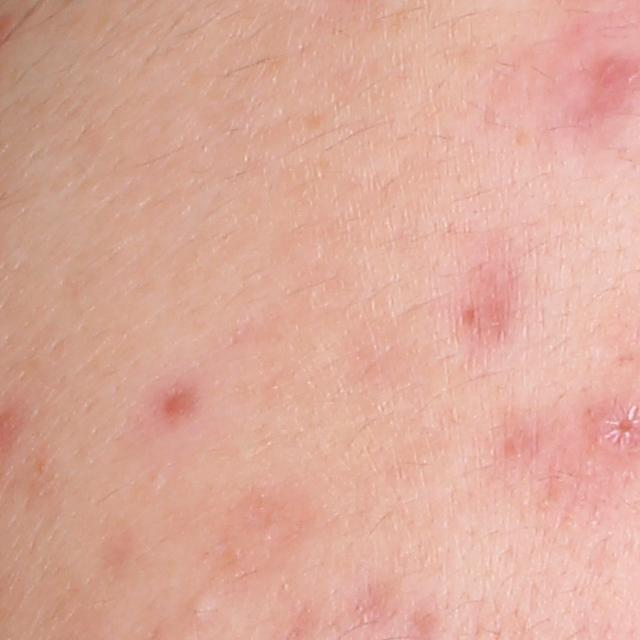comedo: (182, 589, 223, 630)
